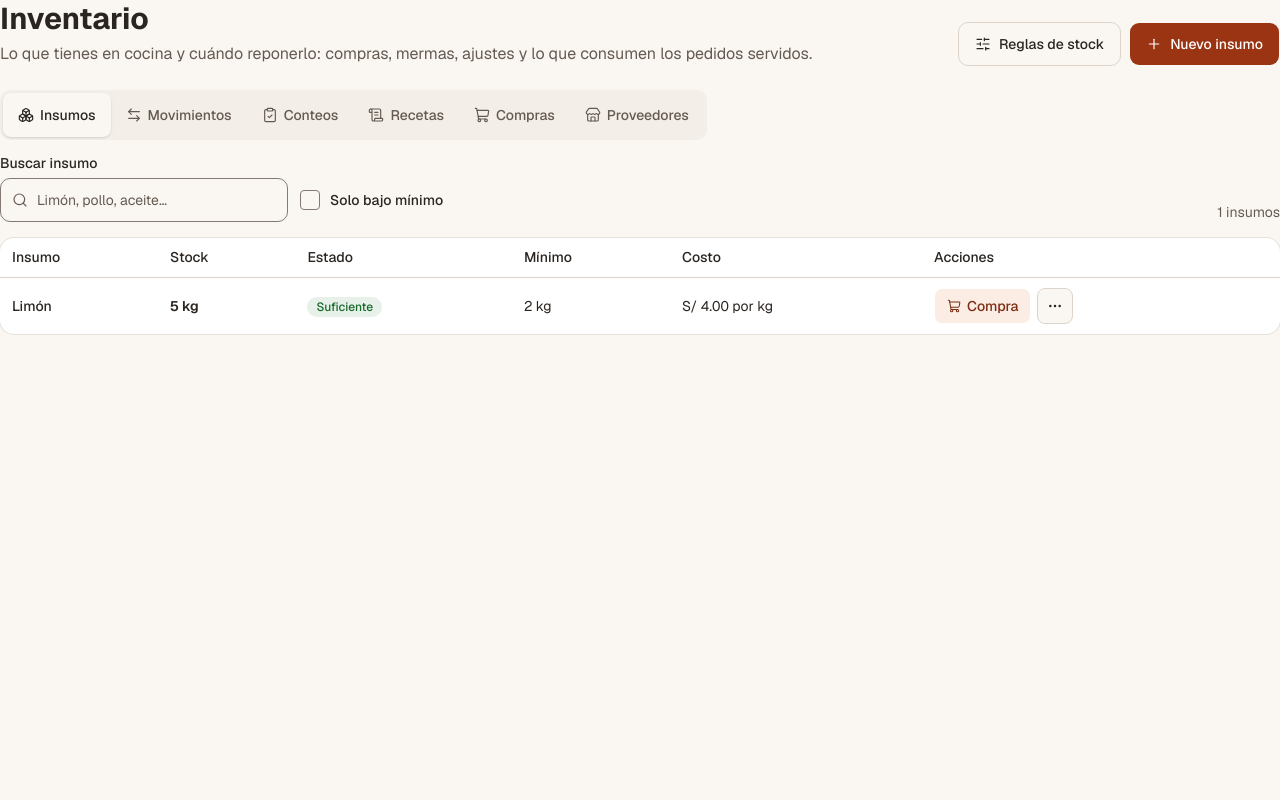
Scenario: alta y edición de insumos › editar parte de los datos en kilos, no deja cambiar la unidad y muestra el error del servidor
Click the button named "Más acciones de Limón" at x=1055, y=306, box [1037, 288, 1073, 324]
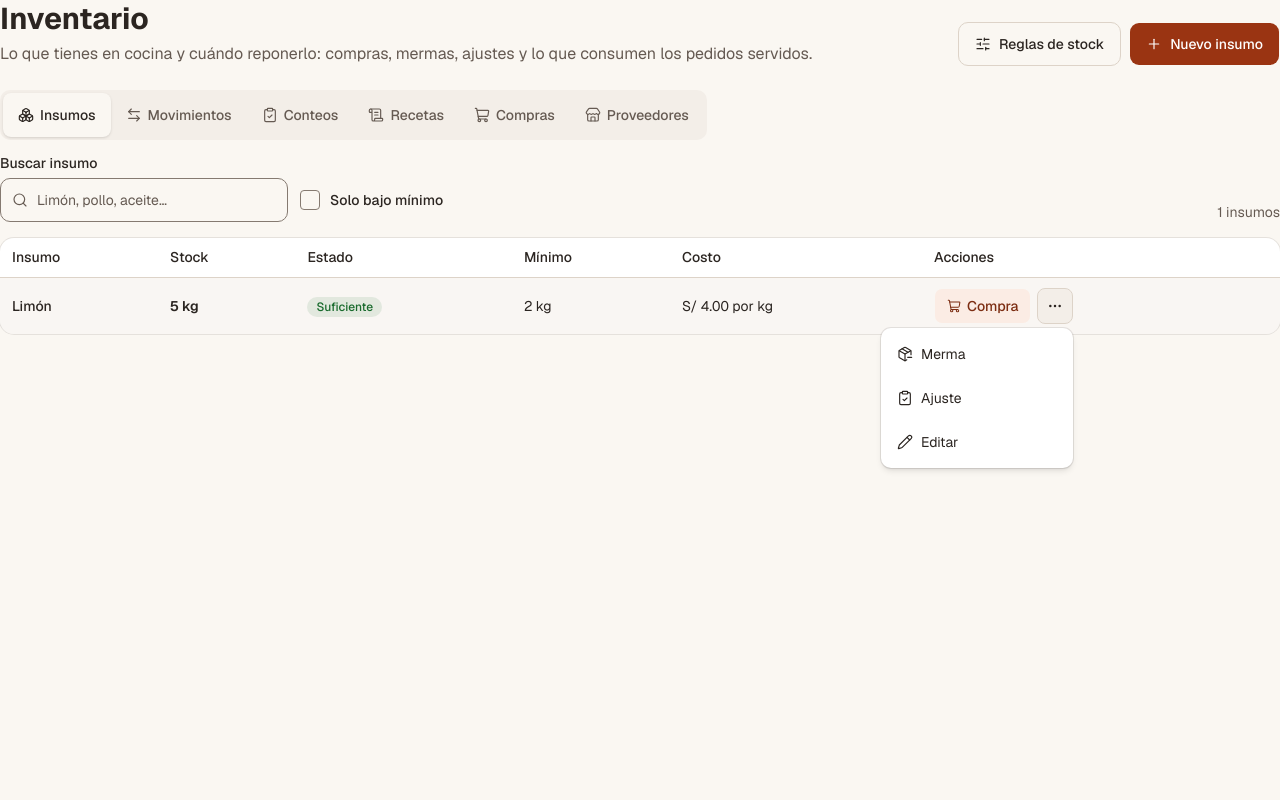
Click the menu item "Editar" at x=928, y=442, box [897, 433, 958, 451]
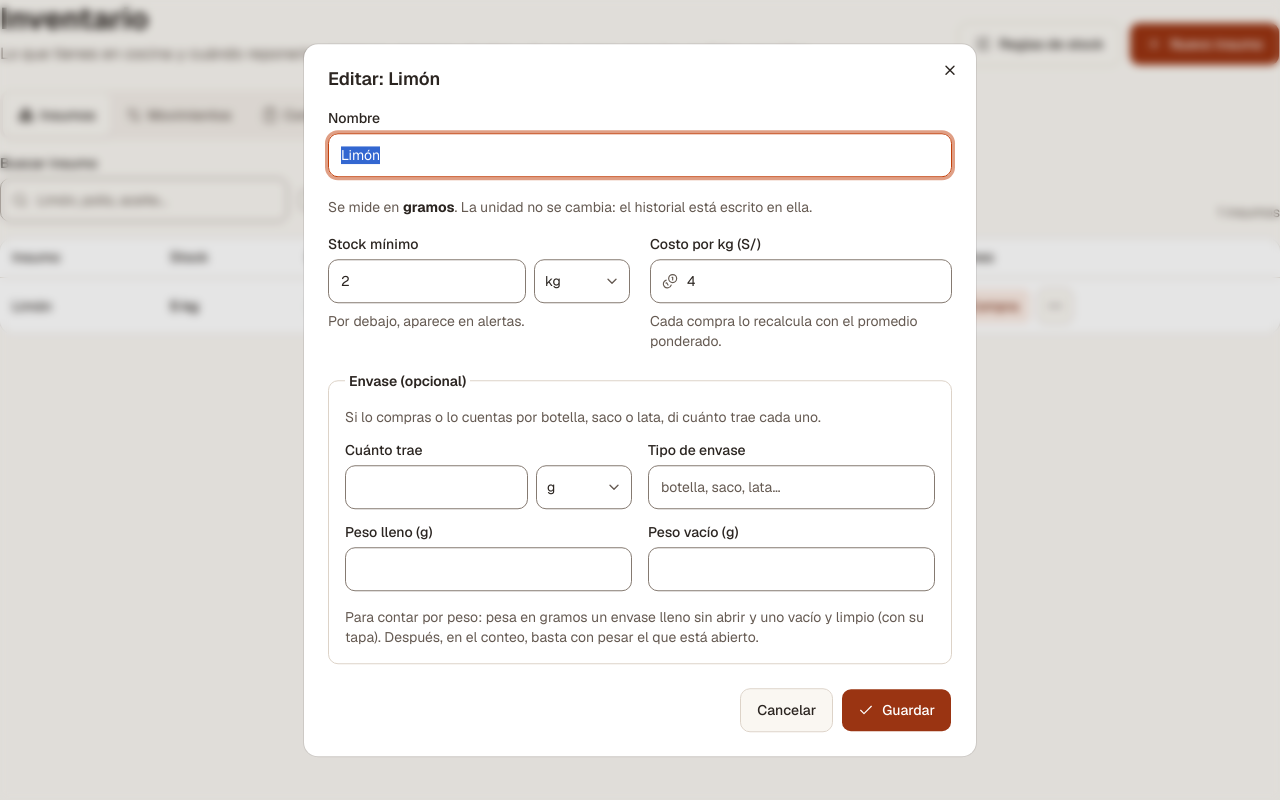
Now the field labelled "Stock mínimo" holds "2", box [328, 259, 526, 303]
Now the text "Se mide en" shows "Se mide en gramos", box [328, 198, 812, 216]
Click the button "Guardar" at x=897, y=710, box [841, 688, 952, 732]
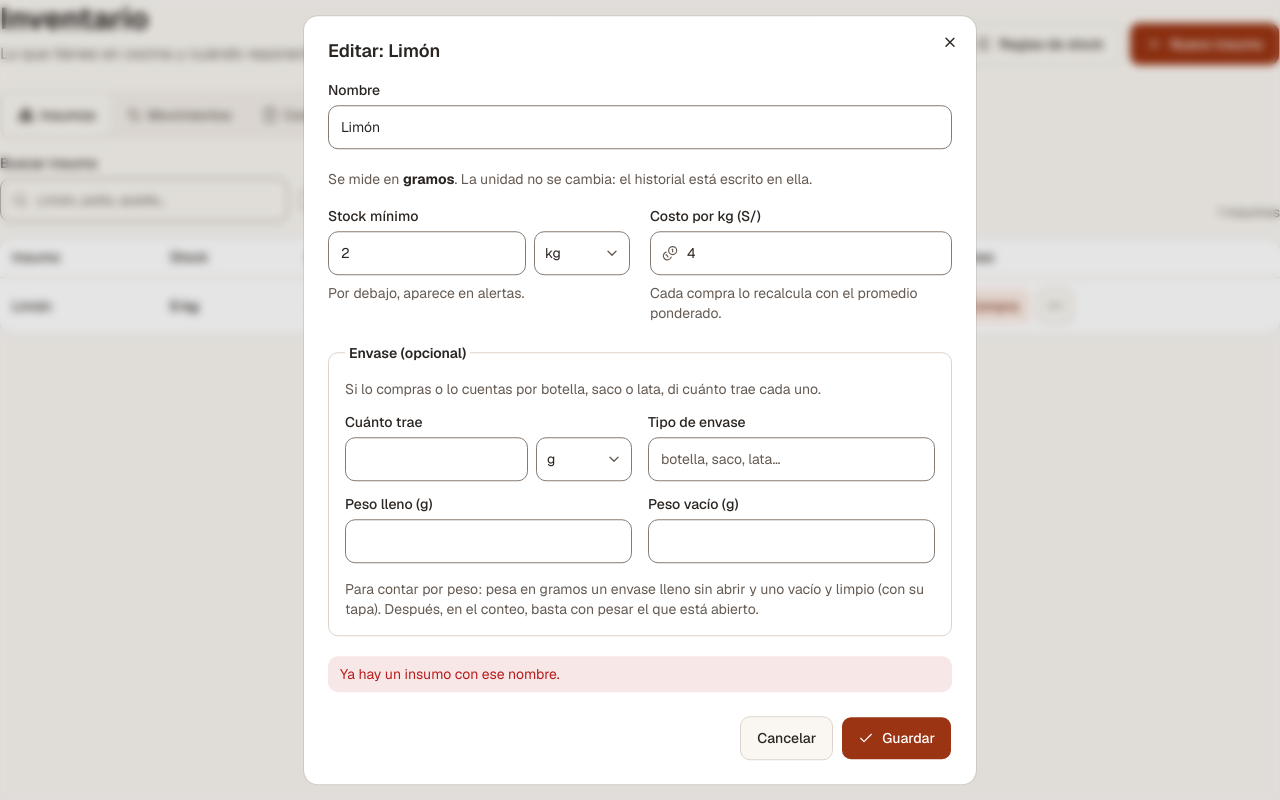
Now the text "Ya hay un insumo con ese nombre." is shown, box [328, 656, 952, 692]
